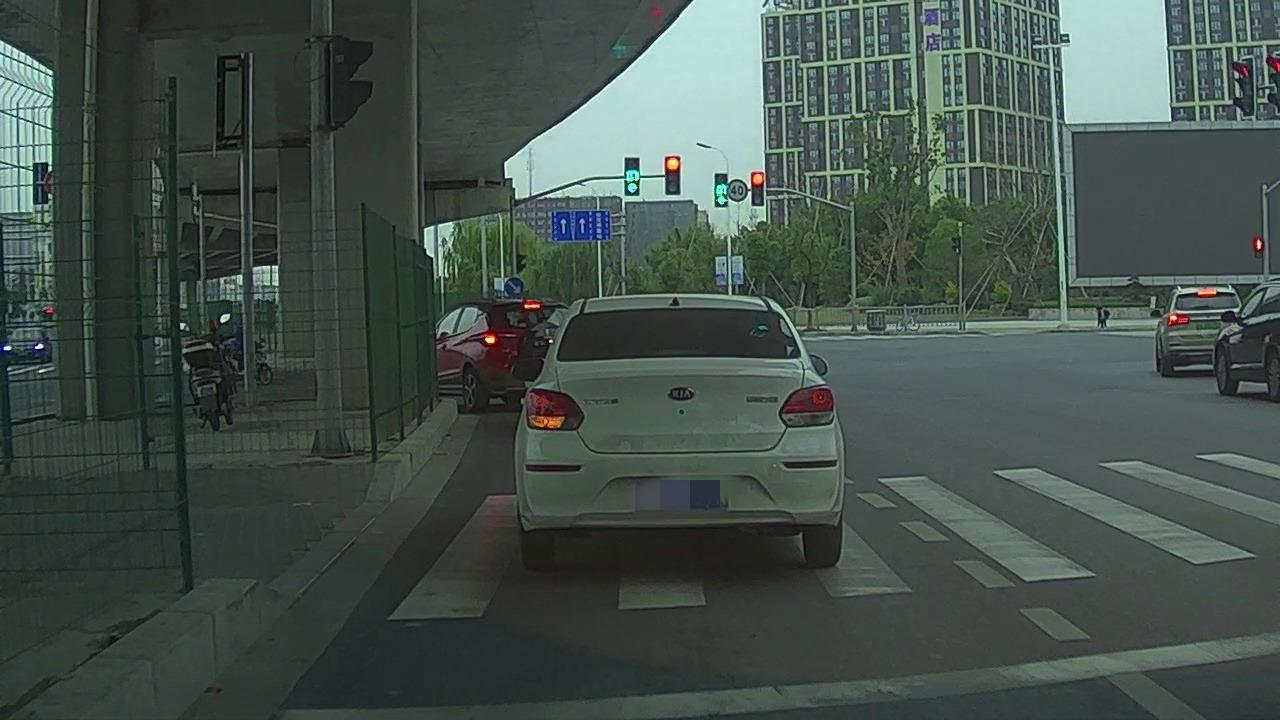traffic_light: (623, 158, 640, 197), (664, 156, 679, 194), (752, 173, 765, 205), (716, 175, 728, 208)
